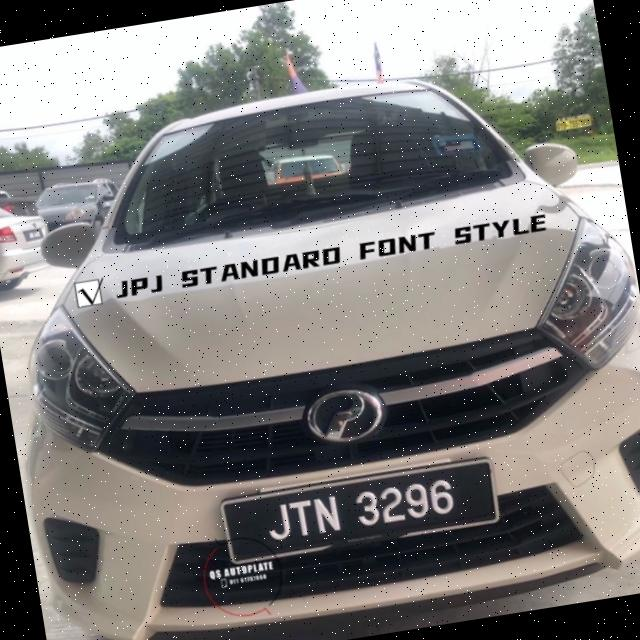License_Plate: (223, 453, 510, 579)
car: (1, 39, 640, 640)
